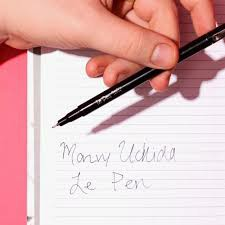pen: (53, 22, 225, 125)
